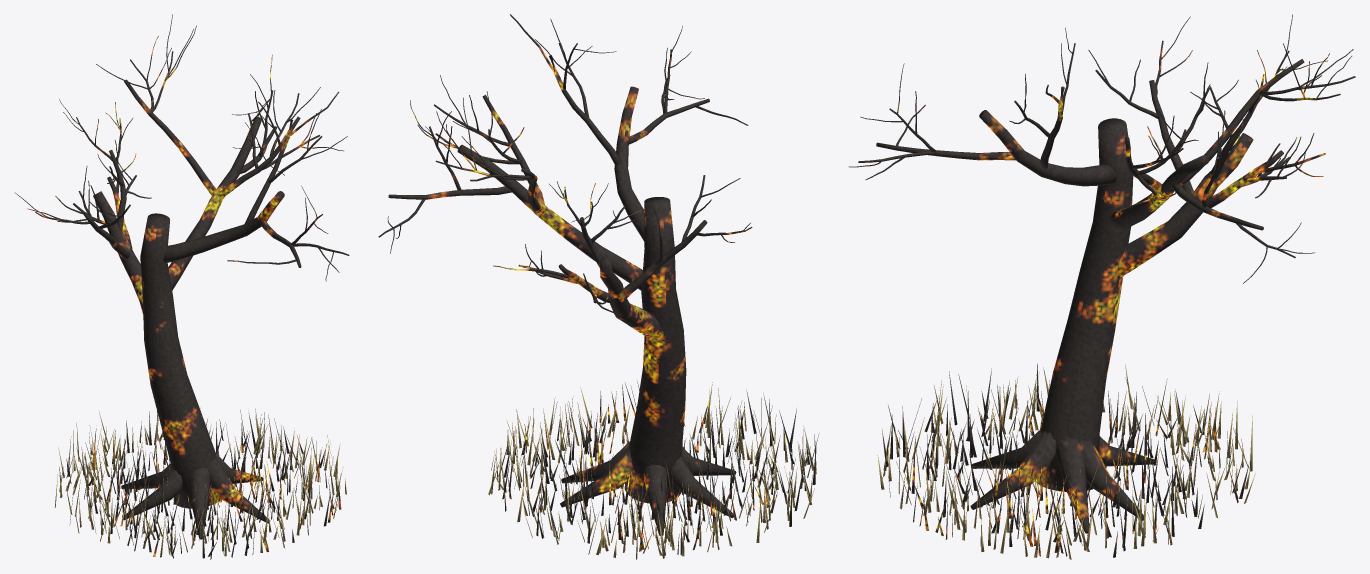
File: deadtree.glb
3 renders of one model, left to right at view 1: azimuth 30°, elevation 25°; view 2: azimuth 150°, elevation 25°; view 3: azimuth 270°, elevation 25°, orthographic. The views are drawn at different scales.
Visible parts, largest first — view 1: AR_deadtree; view 2: AR_deadtree; view 3: AR_deadtree.
Boxes of the visible parts, left/top/right/bottom form: AR_deadtree: left=14, top=14, right=349, bottom=559; AR_deadtree: left=378, top=14, right=819, bottom=559; AR_deadtree: left=848, top=14, right=1355, bottom=559.
Size of the model in its own units: 3.28 by 4.11 by 3.81.
1 material, 1 textured.
